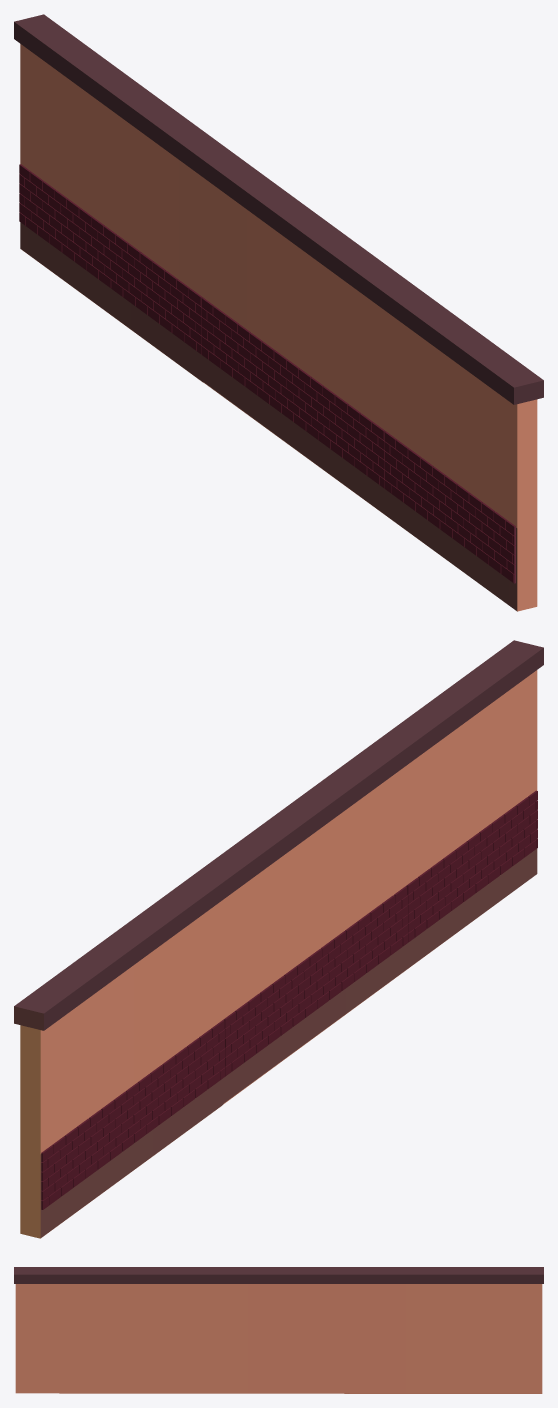
The model's file is Parede-Direita 1.fbx.
3 renders of one model, top to bottom at view 1: azimuth 30°, elevation 25°; view 2: azimuth 150°, elevation 25°; view 3: azimuth 270°, elevation 25°, orthographic. The views are drawn at different scales.
Parts seen in each view (by area): view 1: Cube.002; view 2: Cube.002; view 3: Cube.002.
Boxes of the visible parts, x1,y1,x2,y2 form: Cube.002: (14,14,543,611); Cube.002: (14,640,543,1238); Cube.002: (14,1267,543,1393).
Size of the model in its own units: 0.5699 by 4.13 by 16.46.
